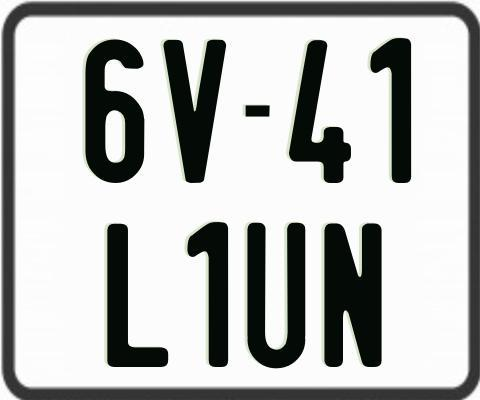1: (184, 219, 229, 368), (367, 36, 410, 186)
4: (287, 39, 349, 186)
6: (83, 38, 147, 182)
L: (107, 224, 168, 370)
N: (323, 223, 387, 367)
U: (247, 222, 308, 368)
V: (161, 39, 228, 185)
